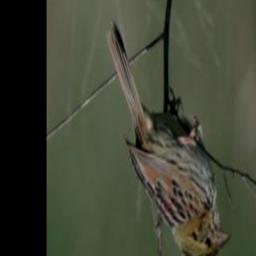Sparrow: (102, 17, 234, 256)
